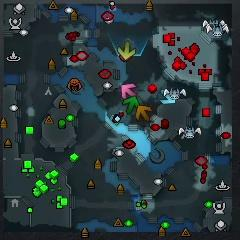x1: (121, 83, 137, 100)
x2: (117, 42, 136, 61)
x3: (159, 89, 176, 105)
x4: (124, 97, 140, 113)
x5: (135, 106, 153, 120)
